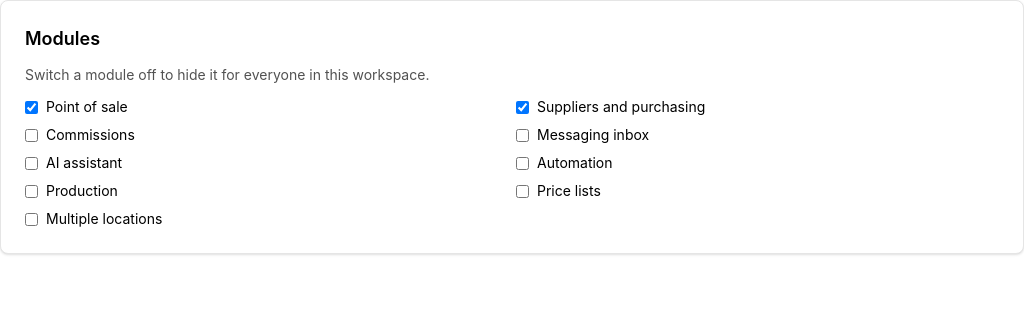
Scenario: ModulesPanel (Requirement 5.3) › shows the server’s refusal
Click the checkbox labelled "Point of sale" at (32, 107), box [25,100,38,114]
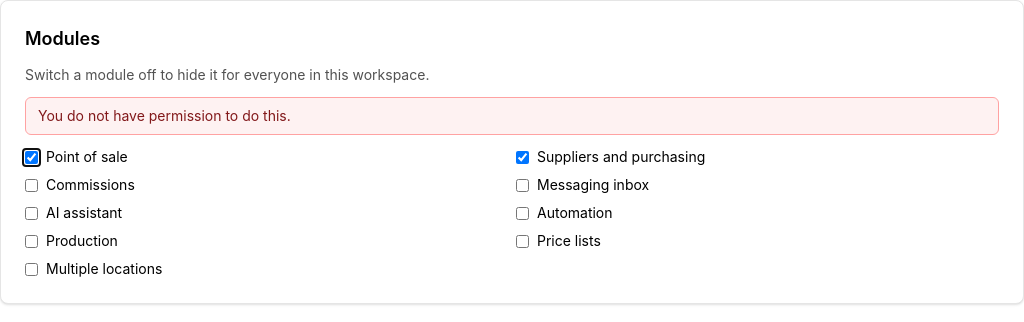
Check: the text "You do not have permission to do this." is shown, box [25,97,999,135]
